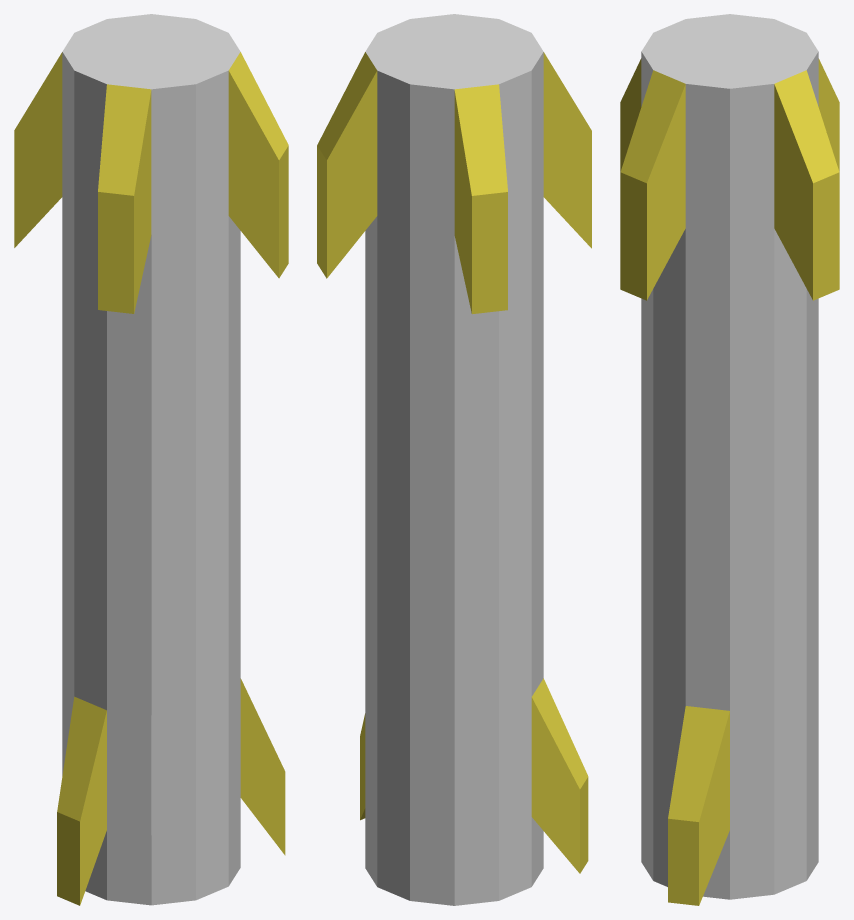
File: Tank05.gltf
The picture shows the model from 3 angles, left to right: view 1: azimuth 30°, elevation 25°; view 2: azimuth 150°, elevation 25°; view 3: azimuth 270°, elevation 25°; orthographic projection.
Visible parts, largest first — view 1: Tank05; view 2: Tank05; view 3: Tank05.
Part boxes in pixels (x1,y1,x2,y2): Tank05: (14,14,288,905); Tank05: (317,14,591,905); Tank05: (620,14,839,905).
Size of the model in its own units: 0.712 by 2.53 by 0.6183.
